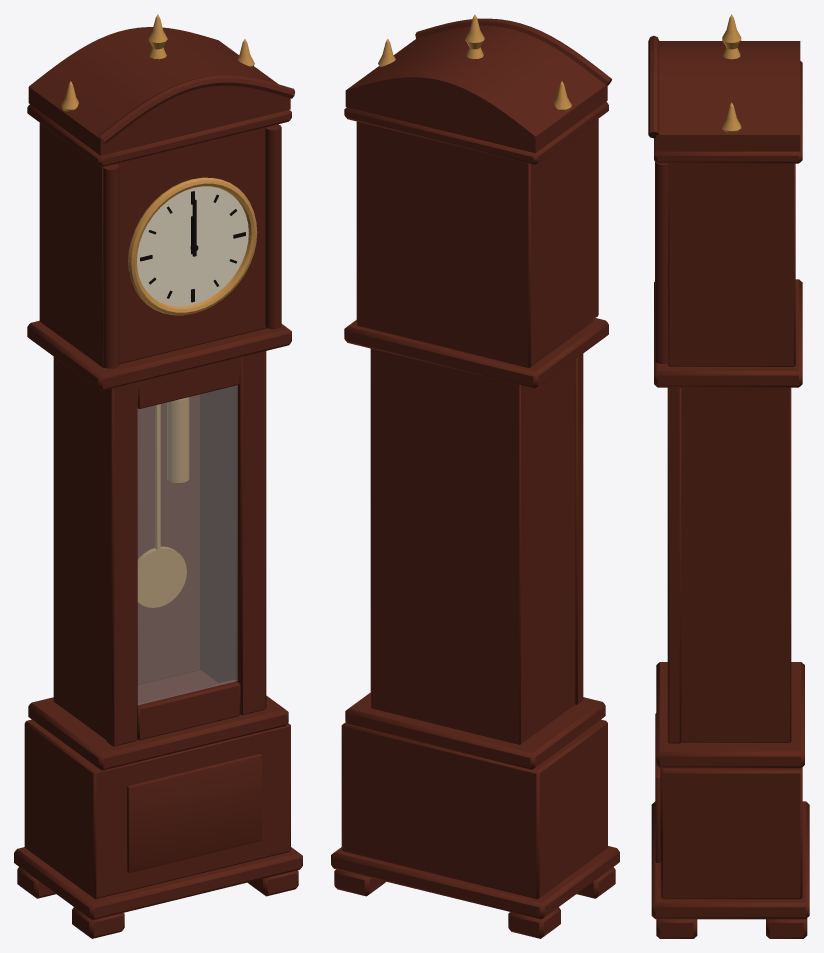
File: Clock.glb
3 views of the same model, side by side, from view 1: azimuth 30°, elevation 25°; view 2: azimuth 150°, elevation 25°; view 3: azimuth 270°, elevation 25° (orthographic).
Visible parts, largest first — view 1: Clock_Body, Clock_Glass, Clock_Face, Clock_Brass, Clock_Pendulum, Clock_Weights; view 2: Clock_Body, Clock_Brass; view 3: Clock_Body, Clock_Brass.
Part boxes in pixels (<box>): Clock_Body: <box>14,27,302,938</box>; Clock_Glass: <box>138,385,237,704</box>; Clock_Face: <box>137,186,248,306</box>; Clock_Brass: <box>61,14,257,315</box>; Clock_Pendulum: <box>137,404,186,607</box>; Clock_Weights: <box>167,397,189,482</box>; Clock_Body: <box>331,18,619,938</box>; Clock_Brass: <box>378,14,571,111</box>; Clock_Body: <box>648,35,809,938</box>; Clock_Brass: <box>722,14,741,133</box>.
Size of the model in its own units: 0.54 by 2.11 by 0.352.
